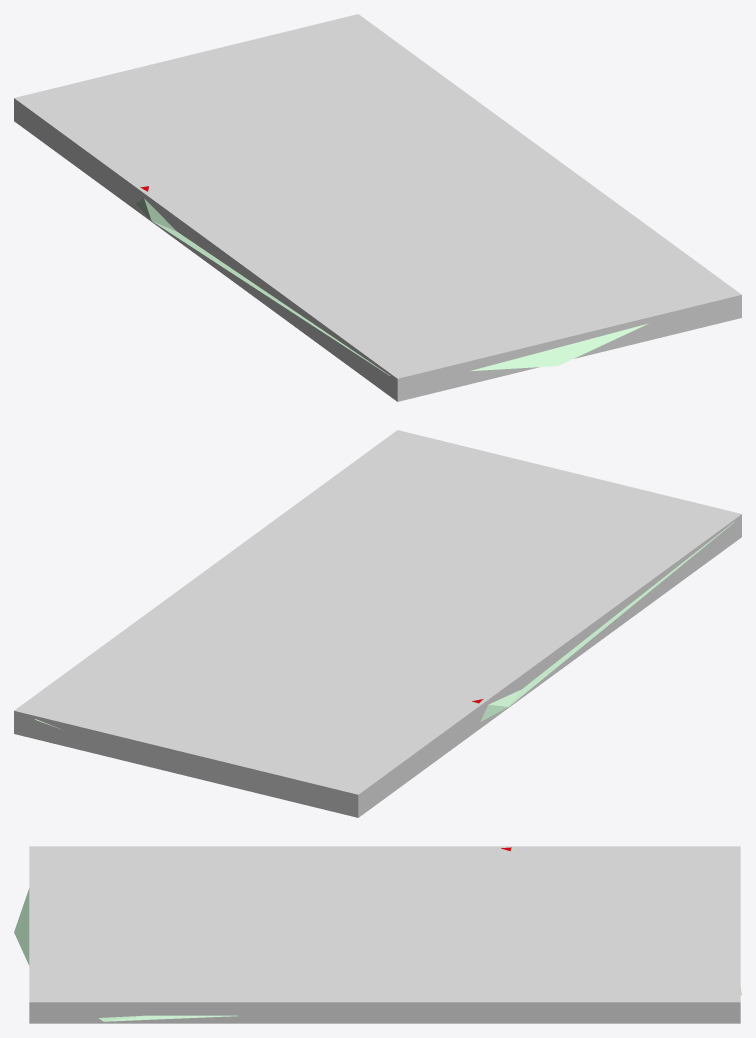
File: Beach Towel 4.glb
The picture shows the model from 3 angles, top to bottom: view 1: azimuth 30°, elevation 25°; view 2: azimuth 150°, elevation 25°; view 3: azimuth 270°, elevation 25°; orthographic projection. The views are drawn at different scales.
Parts seen in each view (by area): view 1: colonly_Towel 4, Towel 4; view 2: colonly_Towel 4, Towel 4; view 3: colonly_Towel 4, Towel 4.
Part boxes in pixels (x1,y1,x2,y2): colonly_Towel 4: (14,14,741,401); Towel 4: (136,185,648,375); colonly_Towel 4: (14,430,741,817); Towel 4: (35,522,734,728); colonly_Towel 4: (29,846,740,1023); Towel 4: (14,847,741,1021).
Bounding box in the file's own units: 0.9689 × 0.0607 × 1.85.
